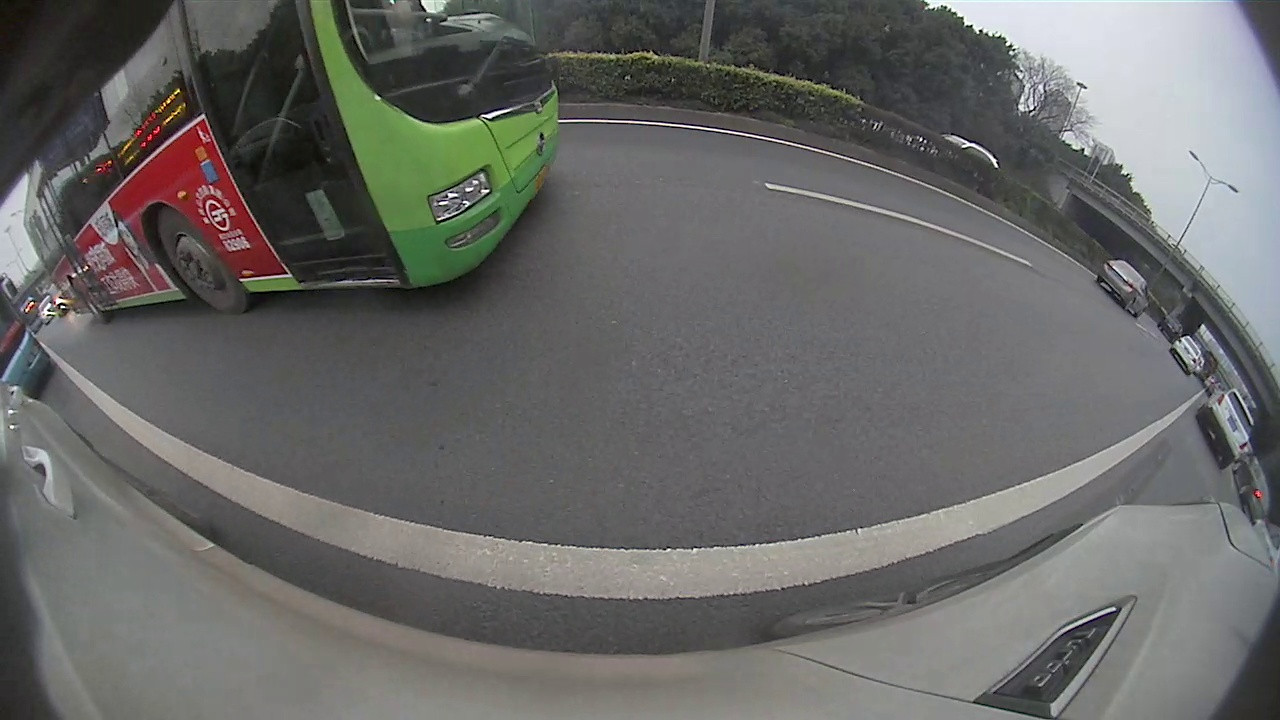bus: (23, 1, 557, 323)
car: (1201, 380, 1256, 471), (1095, 258, 1149, 319), (1168, 335, 1204, 375)
front: (152, 202, 254, 317)
